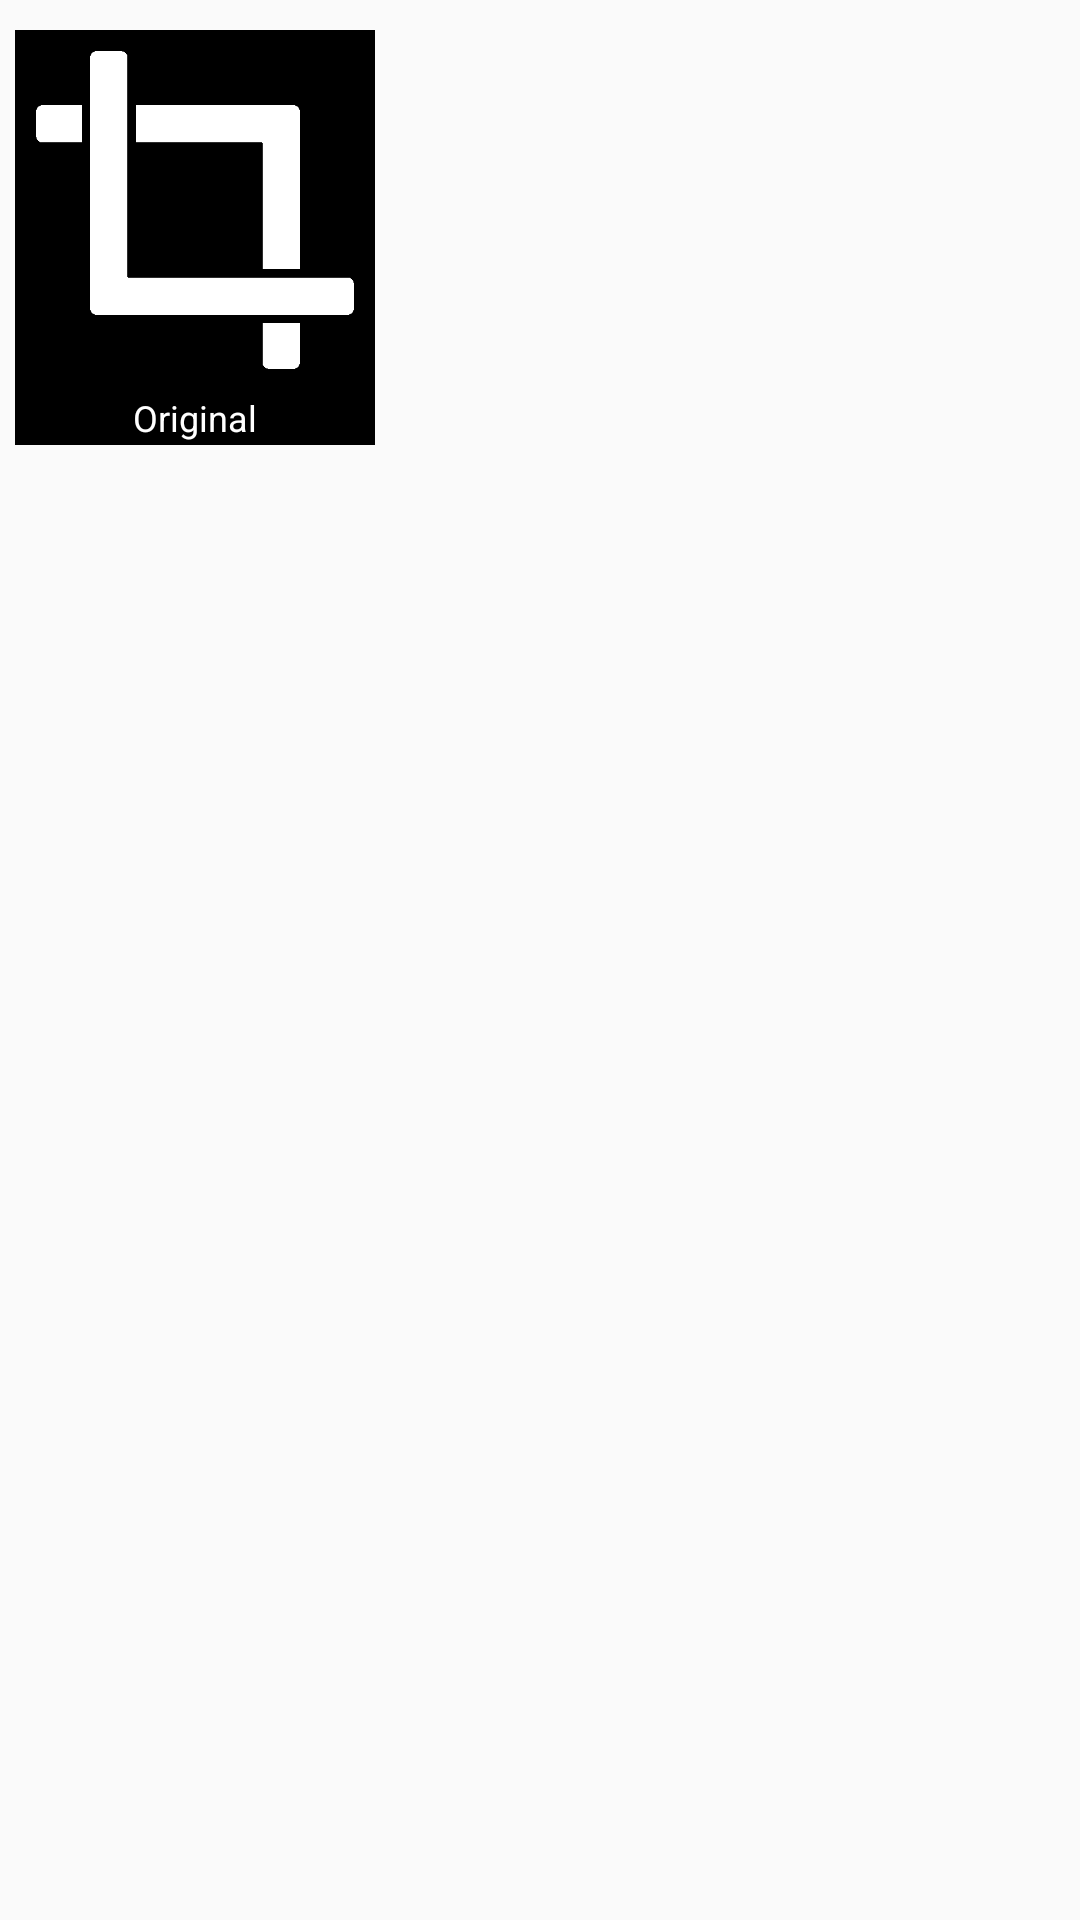

Named icons in this screenshot (1080x1920) and their centers, point (x, y):
crop: point (195, 210)
